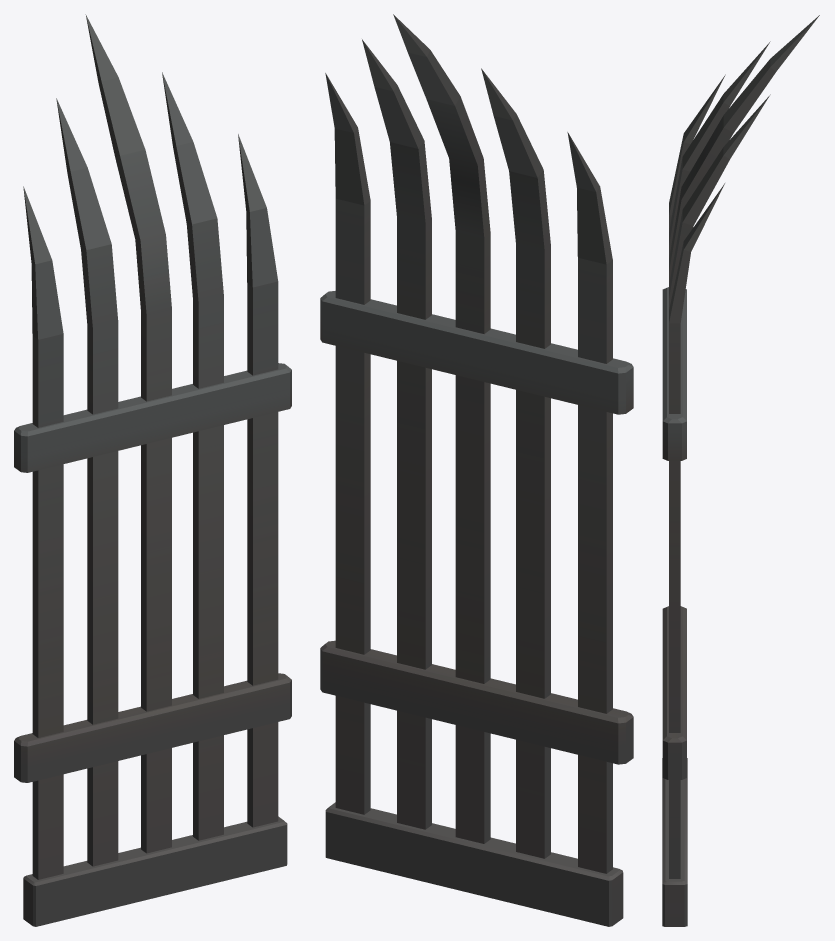
The model's file is Fence_02_Gate.fbx.
The picture shows the model from 3 angles, left to right: view 1: azimuth 30°, elevation 25°; view 2: azimuth 150°, elevation 25°; view 3: azimuth 270°, elevation 25°; orthographic projection. The views are drawn at different scales.
Parts seen in each view (by area): view 1: Fence_02_Gate; view 2: Fence_02_Gate; view 3: Fence_02_Gate.
Boxes of the visible parts, <box> form: Fence_02_Gate: <box>14,14,291,926</box>; Fence_02_Gate: <box>320,14,633,926</box>; Fence_02_Gate: <box>662,15,819,926</box>.
Size of the model in its own units: 121 by 353 by 59.63.
